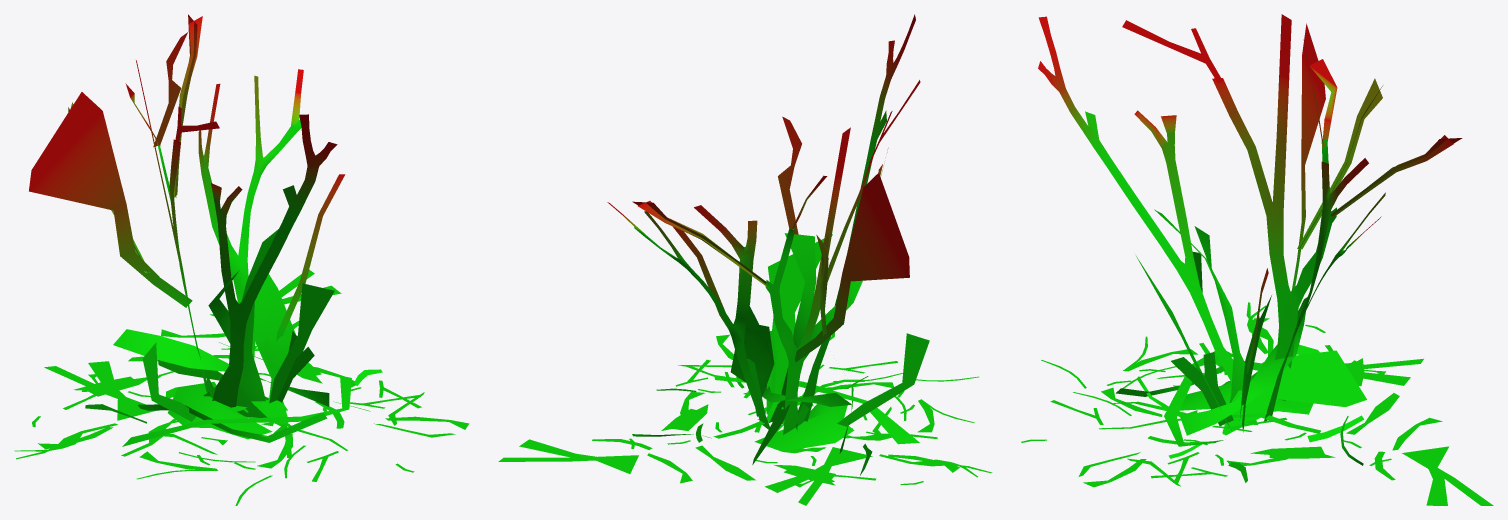
The model's file is Dead Shrubs_LOD1_Var2_vdknbbuha.fbx.
3 views of the same model, side by side, from view 1: azimuth 30°, elevation 25°; view 2: azimuth 150°, elevation 25°; view 3: azimuth 270°, elevation 25° (orthographic). The views are drawn at different scales.
Visible parts, largest first — view 1: _yvdp_Var2_LOD1; view 2: _yvdp_Var2_LOD1; view 3: _yvdp_Var2_LOD1.
Part boxes in pixels (box(x1,y1,x2,y2)): _yvdp_Var2_LOD1: box(14, 14, 469, 505); _yvdp_Var2_LOD1: box(498, 14, 992, 505); _yvdp_Var2_LOD1: box(1021, 14, 1493, 505).
Size of the model in its own units: 49.48 by 44.28 by 48.56.
